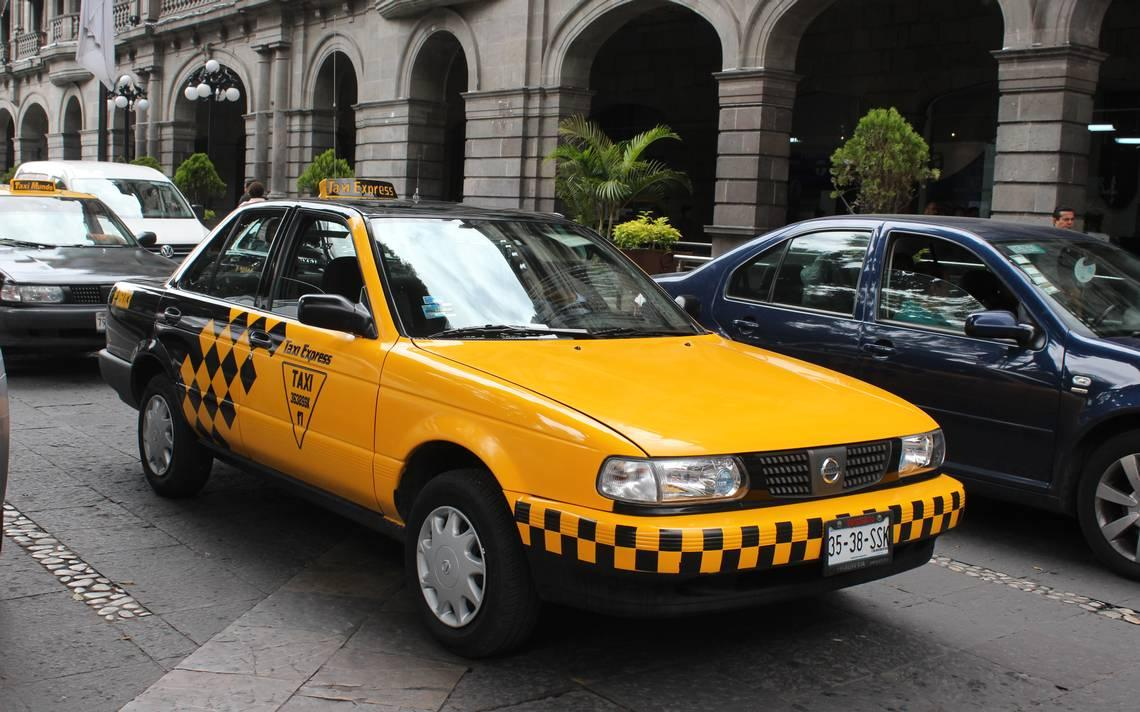taxi: (80, 232, 974, 664)
